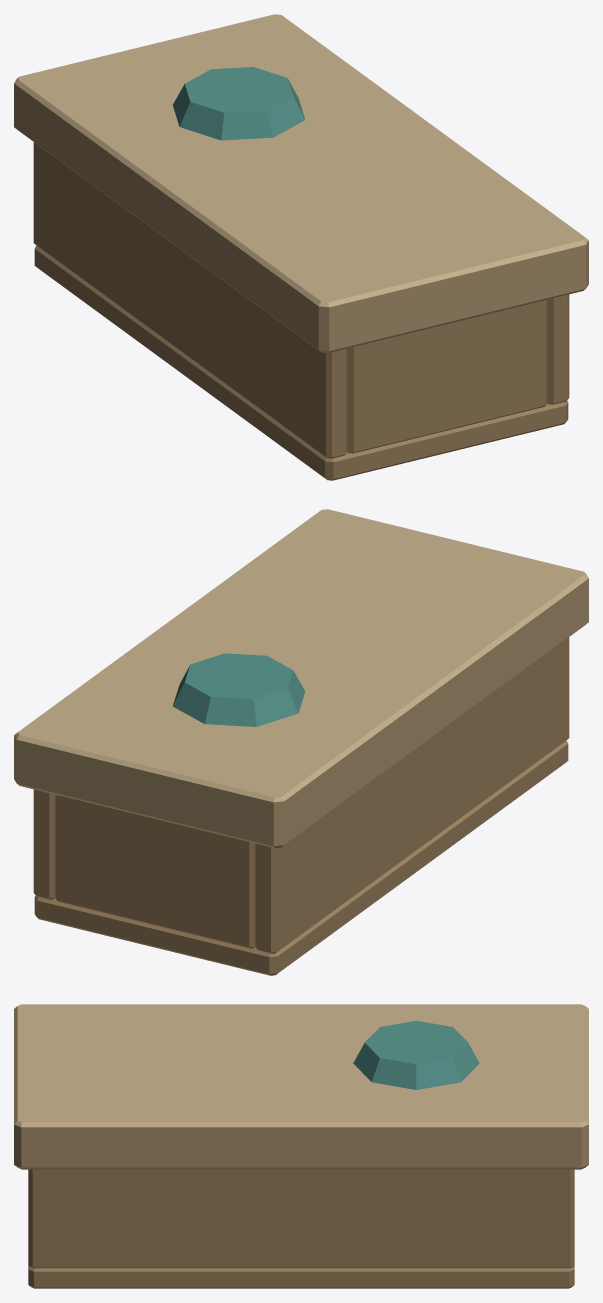
File: sarcophagus.glb
3 renders of one model, top to bottom at view 1: azimuth 30°, elevation 25°; view 2: azimuth 150°, elevation 25°; view 3: azimuth 270°, elevation 25°, orthographic. The views are drawn at different scales.
Visible parts, largest first — view 1: sarcophagus__body; view 2: sarcophagus__body; view 3: sarcophagus__body.
Boxes of the visible parts, x1,y1,x2,y2 form: sarcophagus__body: (14, 14, 588, 480); sarcophagus__body: (14, 509, 588, 975); sarcophagus__body: (14, 1004, 588, 1288).
Size of the model in its own units: 1 by 0.74 by 2.
